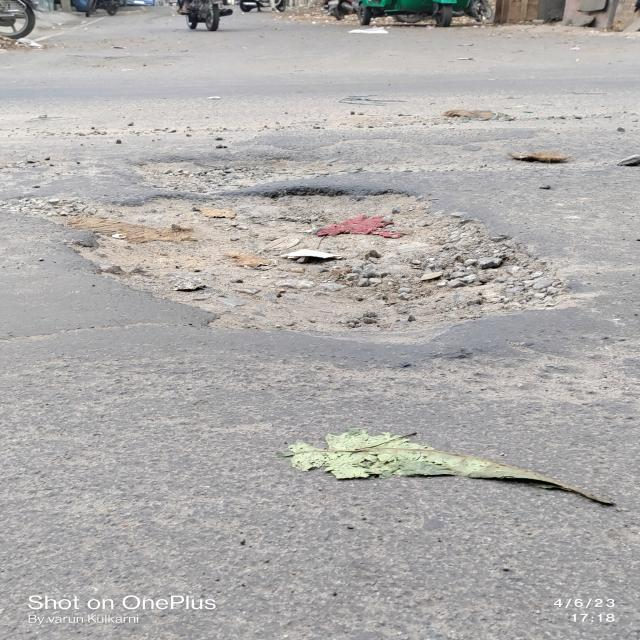potholes: (51, 186, 600, 340)
